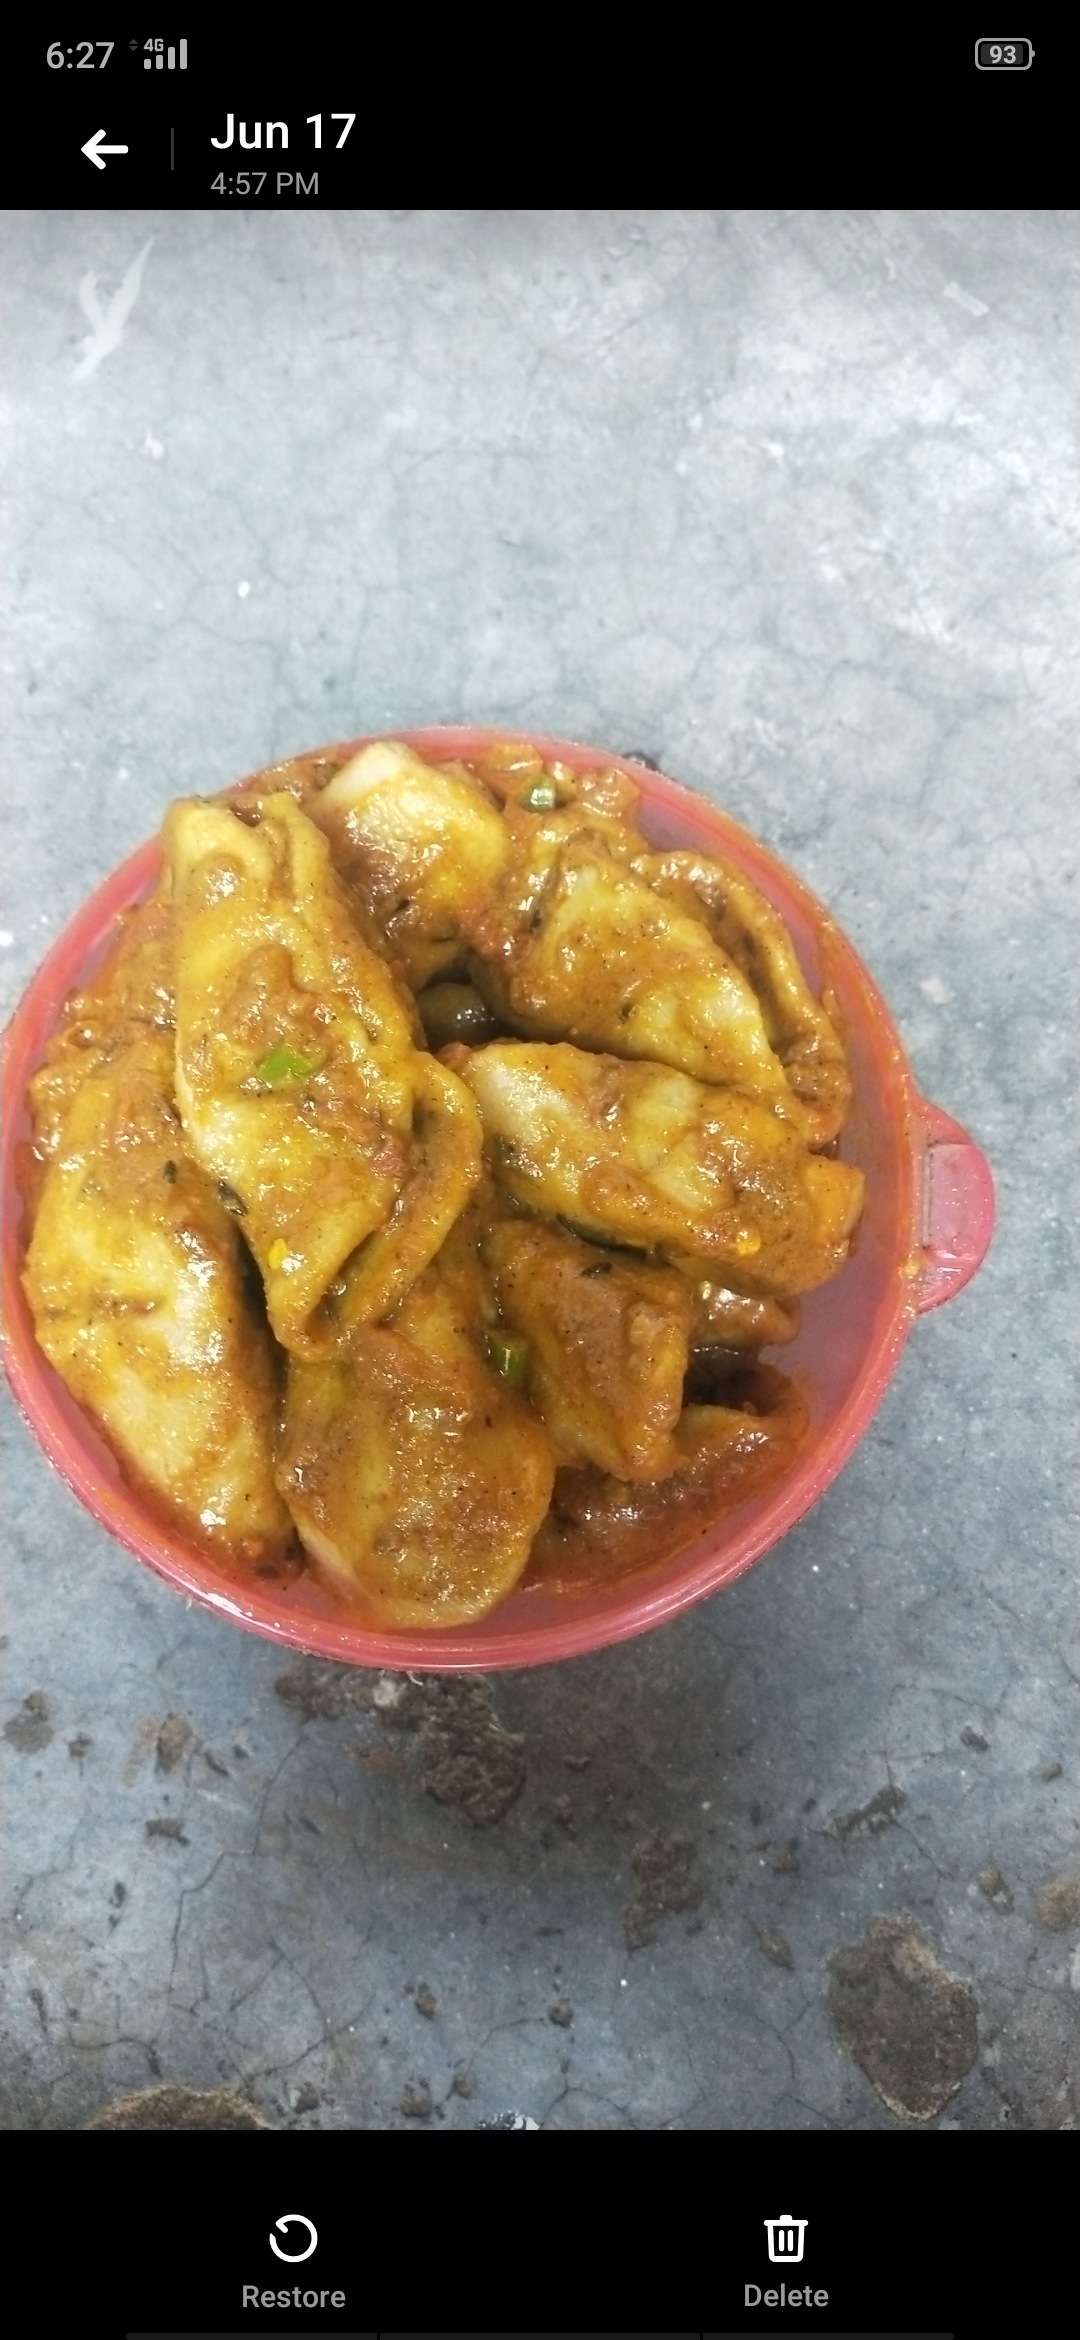food: (12, 716, 879, 1642)
